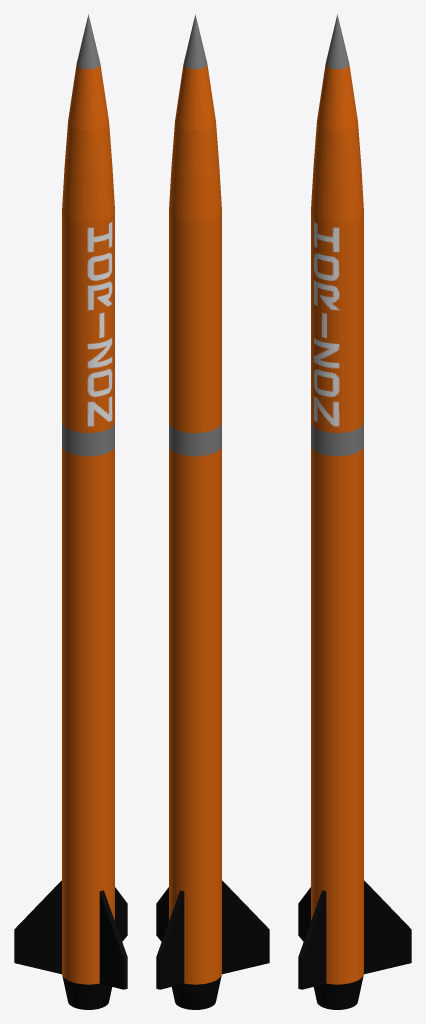
The model's file is rocket_horizon.glb.
3 views of the same model, side by side, from view 1: azimuth 30°, elevation 25°; view 2: azimuth 210°, elevation 25°; view 3: azimuth 330°, elevation 25° (orthographic).
Parts seen in each view (by area): view 1: legacy_low_poly.001; view 2: legacy_low_poly.001; view 3: legacy_low_poly.001.
Part boxes in pixels (x1=…): legacy_low_poly.001: x1=14, y1=14, x2=127, y2=1009; legacy_low_poly.001: x1=156, y1=14, x2=269, y2=1009; legacy_low_poly.001: x1=298, y1=14, x2=411, y2=1009.
Bounding box in the file's own units: 0.3823 × 3.18 × 0.3311.
Materials: 3 (1 with a texture image).
